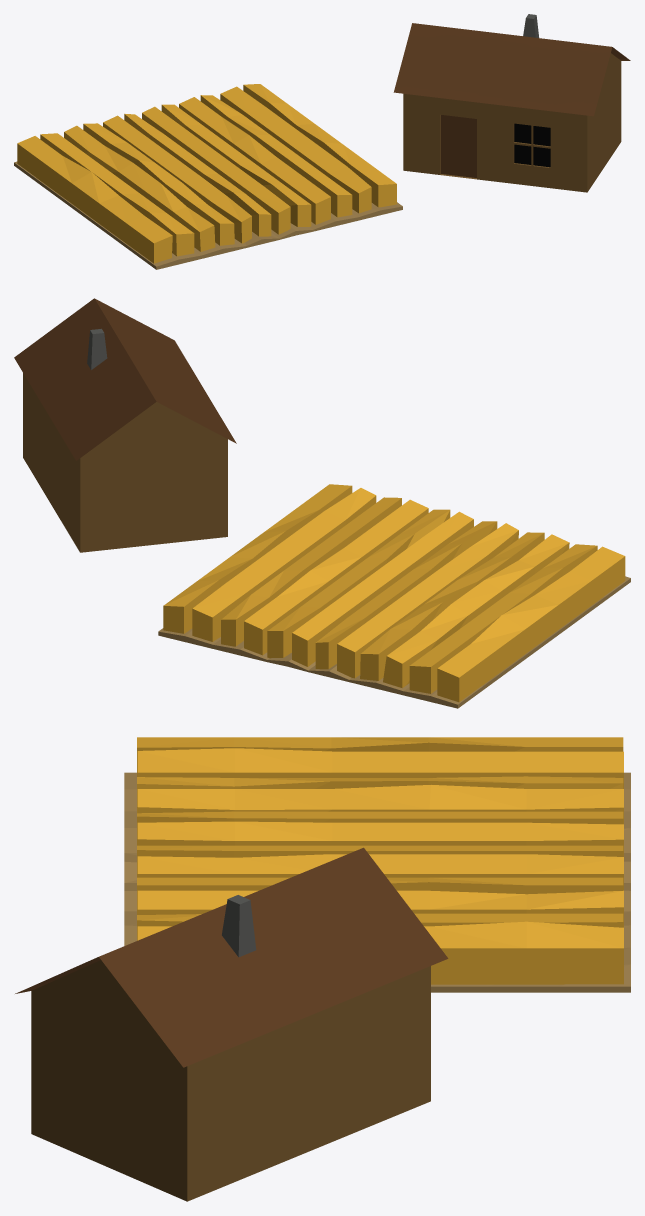
The model's file is farm_v2_lowpoly.glb.
3 renders of one model, top to bottom at view 1: azimuth 30°, elevation 25°; view 2: azimuth 150°, elevation 25°; view 3: azimuth 270°, elevation 25°, orthographic. The views are drawn at different scales.
Visible parts, largest first — view 1: Wheat, Housing, Soil; view 2: Wheat, Housing, Soil; view 3: Housing, Wheat, Soil.
Part boxes in pixels (x1,y1,x2,y2): Wheat: [17, 84, 396, 263]; Housing: [393, 14, 630, 192]; Soil: [14, 161, 402, 269]; Wheat: [163, 484, 625, 702]; Housing: [14, 298, 236, 552]; Soil: [158, 576, 630, 708]; Housing: [15, 847, 448, 1201]; Wheat: [137, 737, 623, 984]; Soil: [124, 772, 630, 992].
Size of the model in its own units: 12.1 by 3.13 by 7.4.
